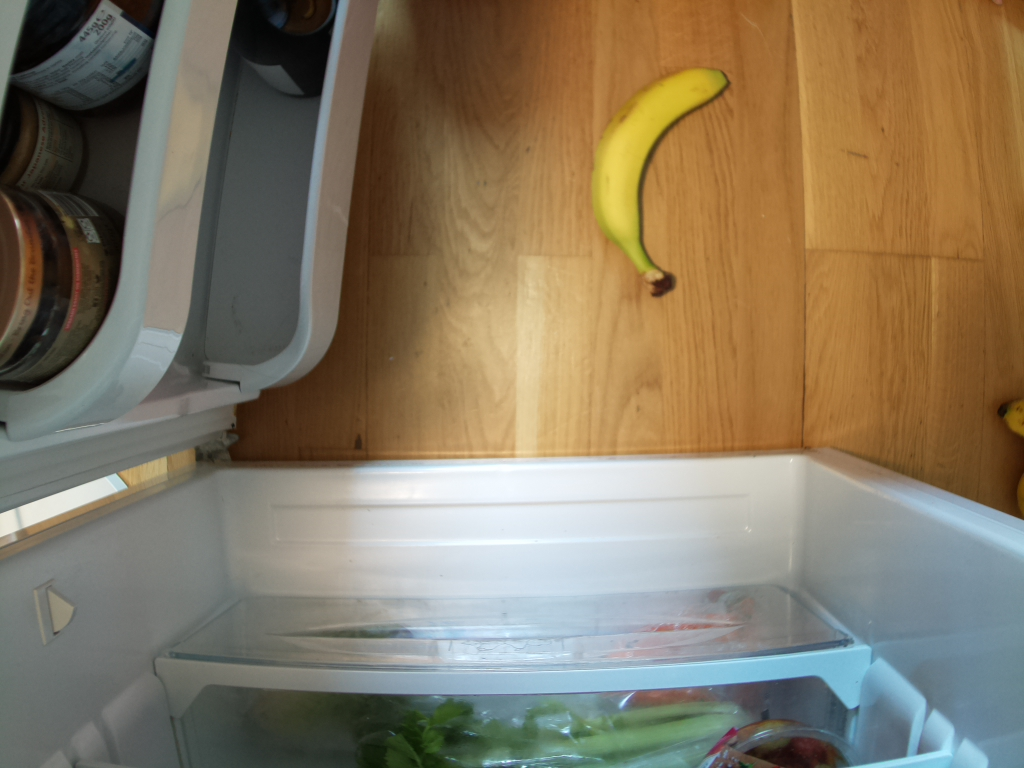banana-unripe: (589, 61, 733, 296)
